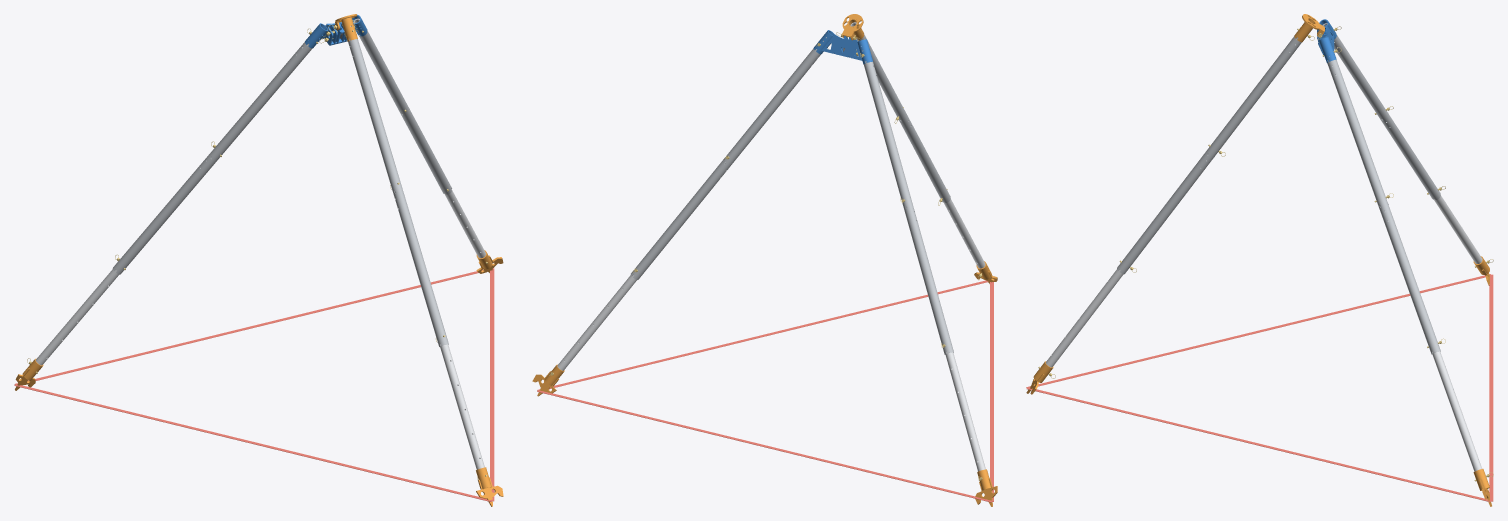
The model's file is tripode_v6.glb.
3 renders of one model, left to right at view 1: azimuth 30°, elevation 25°; view 2: azimuth 150°, elevation 25°; view 3: azimuth 270°, elevation 25°, orthographic. The views are drawn at different scales.
Parts seen in each view (by area): view 1: n41_11G2, n39_11G1, n23_11I1, n25_11I2, n49_M3, n47_M1, n43_12G, n48_M2, n27_12I, n31_11D1, n33_11D2, n35_12D; view 2: n25_11I2, n23_11I1, n31_11D1, n33_11D2, n47_M1, n48_M2, n27_12I, n35_12D, n41_11G2, n49_M3, n39_11G1, n43_12G (+1 smaller); view 3: n33_11D2, n31_11D1, n39_11G1, n41_11G2, n48_M2, n49_M3, n35_12D, n47_M1, n43_12G, n25_11I2, n23_11I1, n27_12I.
Part boxes in pixels (x1=…): n41_11G2: x1=393, y1=191, x2=448, y2=346; n39_11G1: x1=348, y1=26, x2=402, y2=194; n23_11I1: x1=209, y1=42, x2=312, y2=161; n25_11I2: x1=112, y1=155, x2=216, y2=274; n49_M3: x1=14, y1=384, x2=492, y2=501; n47_M1: x1=14, y1=269, x2=483, y2=385; n43_12G: x1=440, y1=343, x2=484, y2=469; n48_M2: x1=490, y1=268, x2=494, y2=501; n27_12I: x1=35, y1=269, x2=119, y2=365; n31_11D1: x1=353, y1=18, x2=409, y2=115; n33_11D2: x1=401, y1=109, x2=451, y2=194; n35_12D: x1=444, y1=190, x2=485, y2=258; n25_11I2: x1=904, y1=206, x2=953, y2=354; n23_11I1: x1=861, y1=46, x2=913, y2=209; n31_11D1: x1=722, y1=37, x2=826, y2=166; n33_11D2: x1=630, y1=161, x2=729, y2=279; n47_M1: x1=537, y1=390, x2=992, y2=502; n48_M2: x1=537, y1=280, x2=988, y2=390; n27_12I: x1=945, y1=351, x2=985, y2=471; n35_12D: x1=557, y1=275, x2=636, y2=370; n41_11G2: x1=899, y1=115, x2=950, y2=202; n49_M3: x1=990, y1=282, x2=993, y2=501; n39_11G1: x1=850, y1=22, x2=907, y2=121; n43_12G: x1=943, y1=199, x2=985, y2=268; n33_11D2: x1=1379, y1=203, x2=1440, y2=354; n31_11D1: x1=1327, y1=56, x2=1388, y2=208; n39_11G1: x1=1205, y1=36, x2=1301, y2=158; n41_11G2: x1=1117, y1=152, x2=1214, y2=274; n48_M2: x1=1026, y1=387, x2=1491, y2=501; n49_M3: x1=1026, y1=274, x2=1491, y2=388; n35_12D: x1=1432, y1=351, x2=1482, y2=471; n47_M1: x1=1489, y1=274, x2=1493, y2=501; n43_12G: x1=1045, y1=269, x2=1123, y2=367; n25_11I2: x1=1380, y1=113, x2=1440, y2=199; n23_11I1: x1=1322, y1=23, x2=1388, y2=120; n27_12I: x1=1434, y1=196, x2=1482, y2=263.
Bounding box in the file's own units: 3304 × 2524 × 2820.
